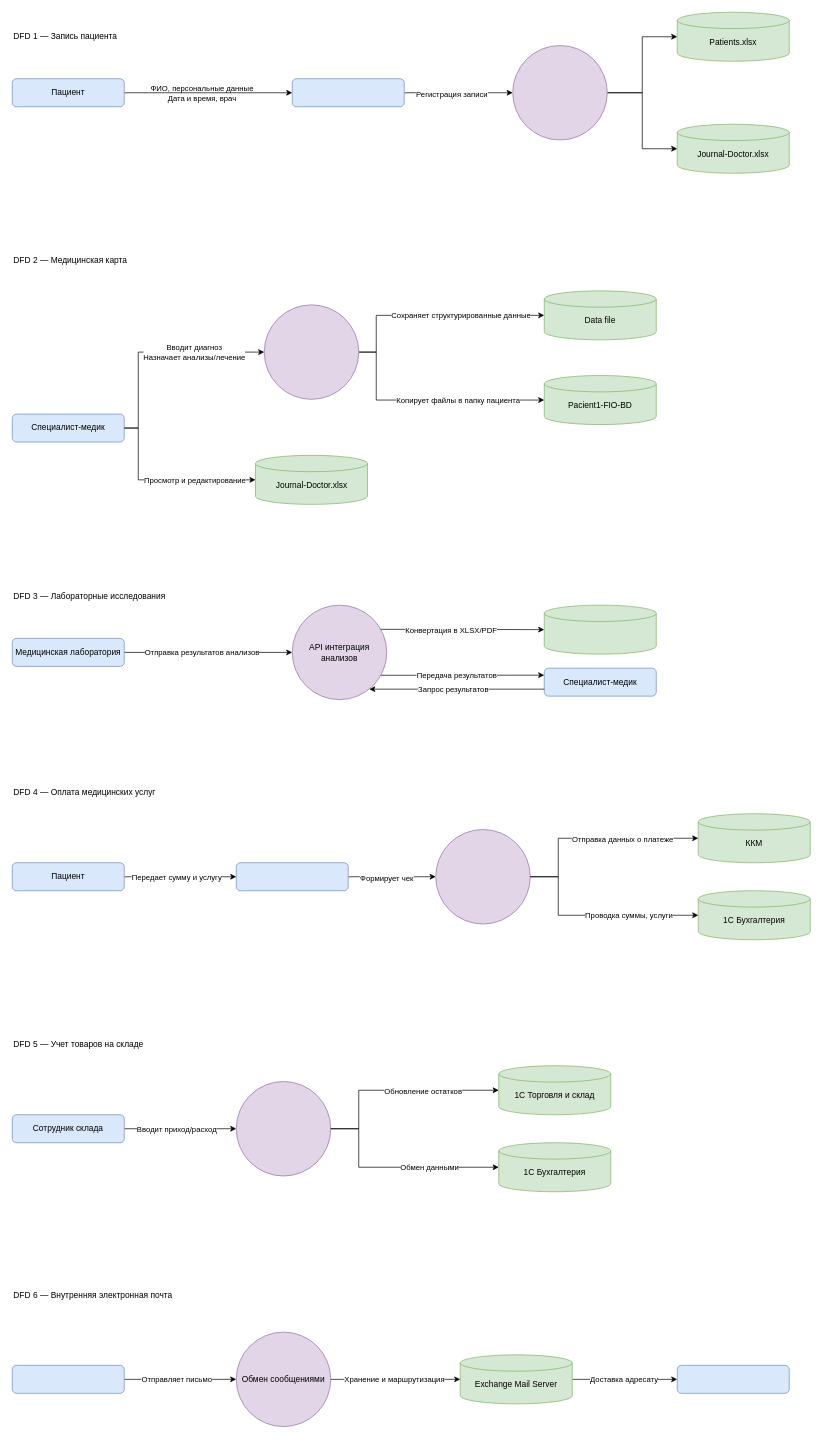
Image size: 823x1439. Some labels were removed from this diagram. Here are the shapes that lost their labels. From the top down, the box of each, then its label:
(292, 78, 404, 107): Сотрудник ресепшена
(512, 45, 607, 140): Запись пациента
(264, 304, 359, 399): Создание/обновление медкарты
(544, 604, 656, 654): RegistryByDate.xlsx
(236, 862, 348, 891): Кассир
(435, 829, 530, 924): Обработка оплаты
(236, 1081, 331, 1176): Учет ТМЦ
(12, 1365, 124, 1393): Сотрудник
(677, 1365, 789, 1393): Другой сотрудник
